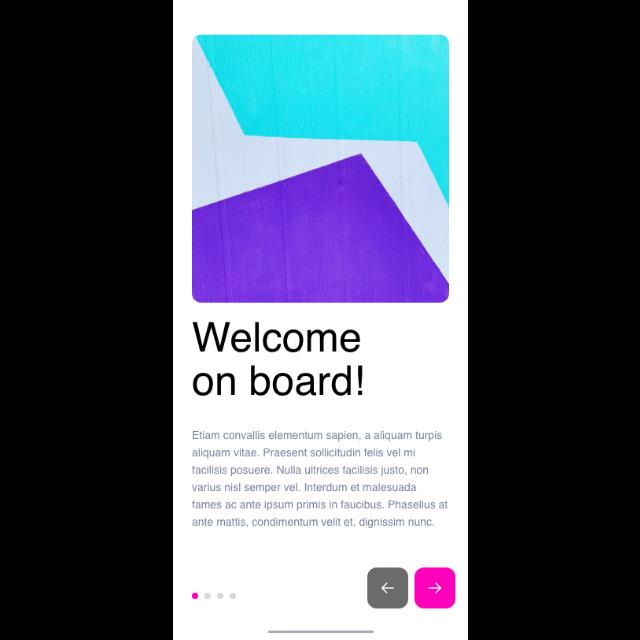icon: (414, 568, 456, 608), (367, 568, 407, 608)
image: (191, 35, 449, 303)
pageindicator: (191, 592, 235, 600)
text: (190, 429, 448, 528), (191, 321, 363, 397)
